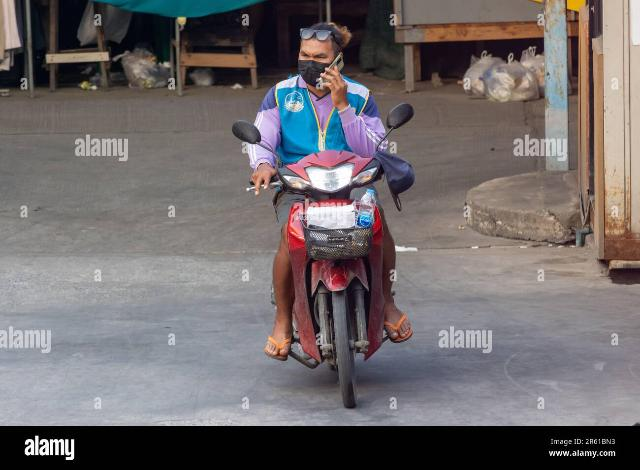motor: (229, 99, 423, 412)
non-helm: (299, 22, 353, 88)
